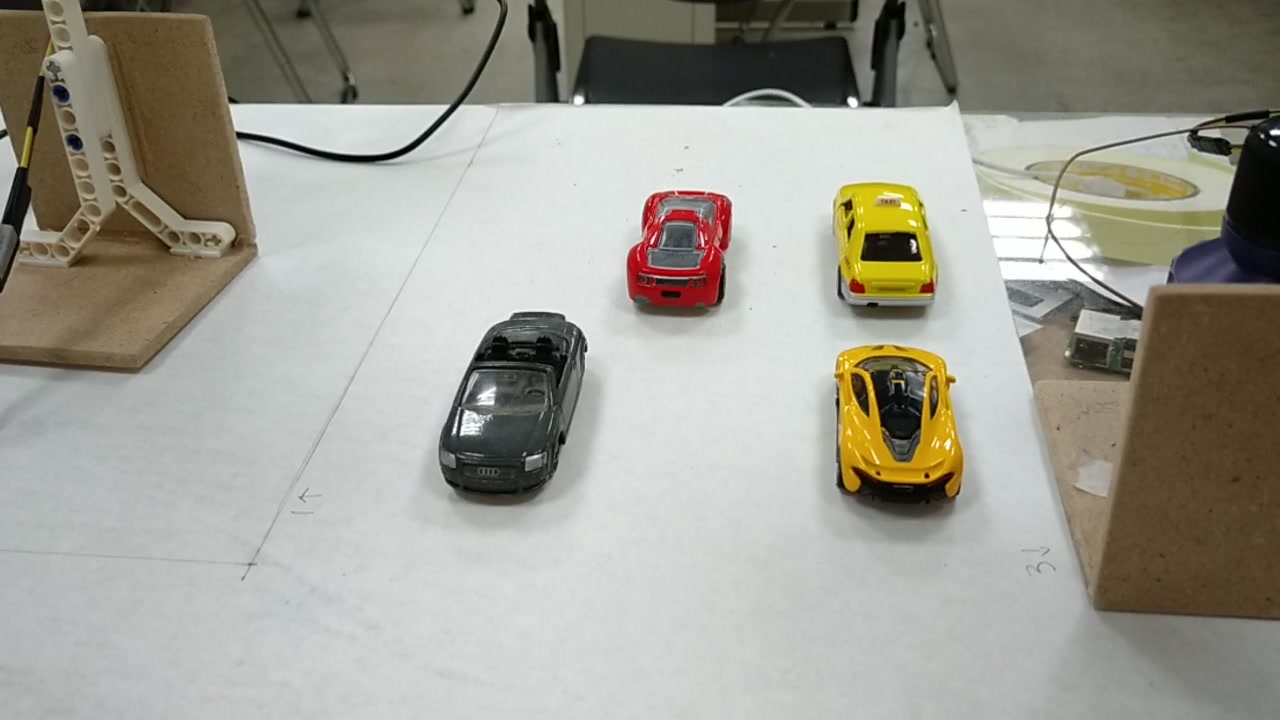car: (439, 320, 586, 494), (836, 352, 957, 505), (626, 189, 741, 303), (839, 184, 934, 307)
